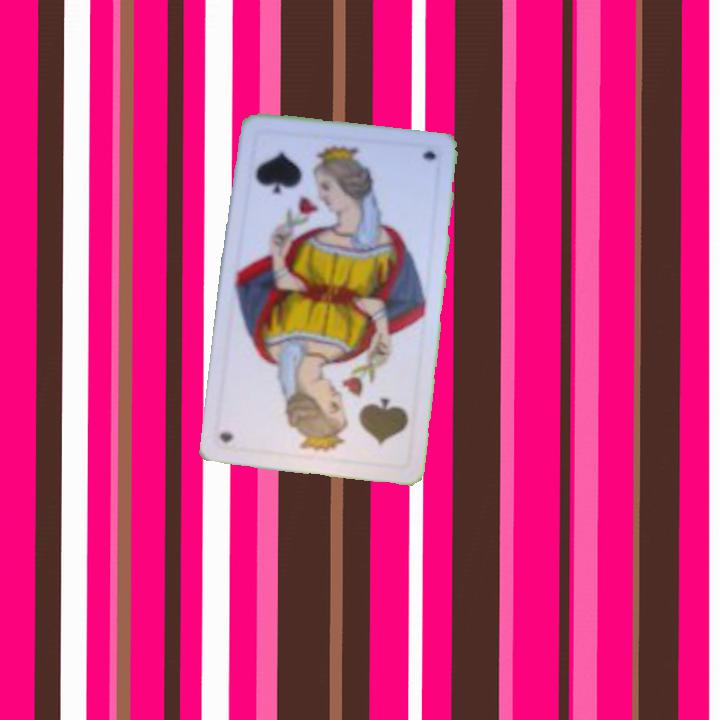s_q.png: (242, 128, 351, 224), (309, 373, 418, 469)
